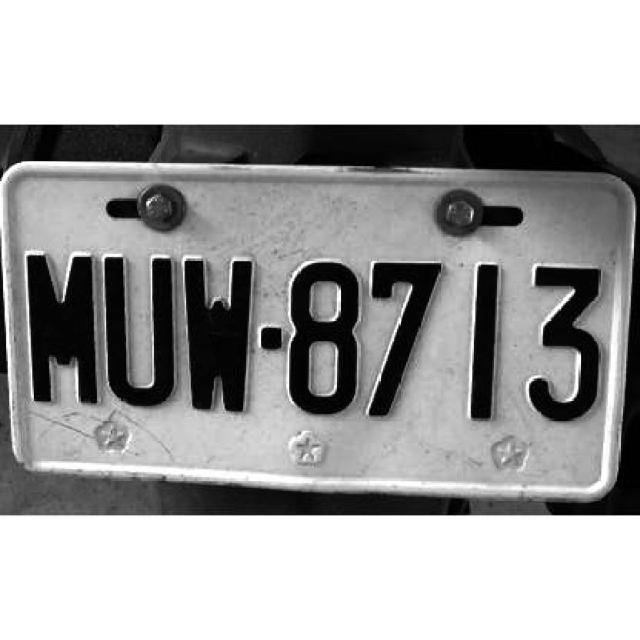-: (258, 317, 284, 358)
1: (466, 256, 503, 424)
3: (525, 260, 606, 428)
7: (365, 256, 446, 424)
8: (286, 251, 362, 423)
M: (22, 246, 100, 411)
U: (102, 251, 180, 412)
W: (183, 252, 257, 418)
